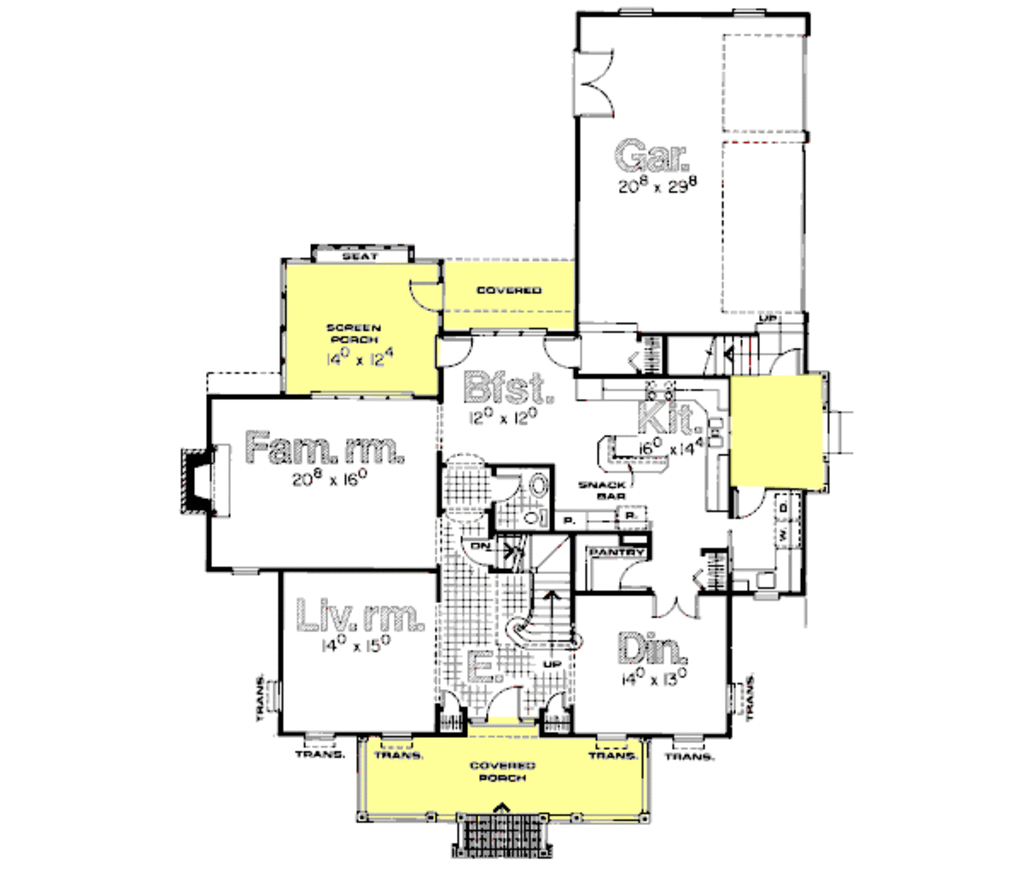door: (571, 47, 614, 121), (644, 589, 700, 624), (429, 331, 477, 369), (728, 481, 768, 525), (539, 333, 581, 373), (403, 276, 443, 317), (483, 682, 523, 723), (485, 472, 526, 510), (457, 535, 498, 572), (765, 344, 802, 374), (616, 557, 649, 590)
kitchen_bar: (591, 433, 672, 478)
large_sink: (520, 506, 551, 534)
small_sink: (526, 469, 552, 502)
stairs: (509, 570, 584, 670), (662, 330, 762, 382)
window: (310, 386, 415, 407), (616, 5, 657, 23), (223, 561, 261, 580), (723, 678, 742, 716), (667, 728, 707, 746), (593, 728, 636, 744), (300, 726, 340, 743), (729, 5, 772, 20)
